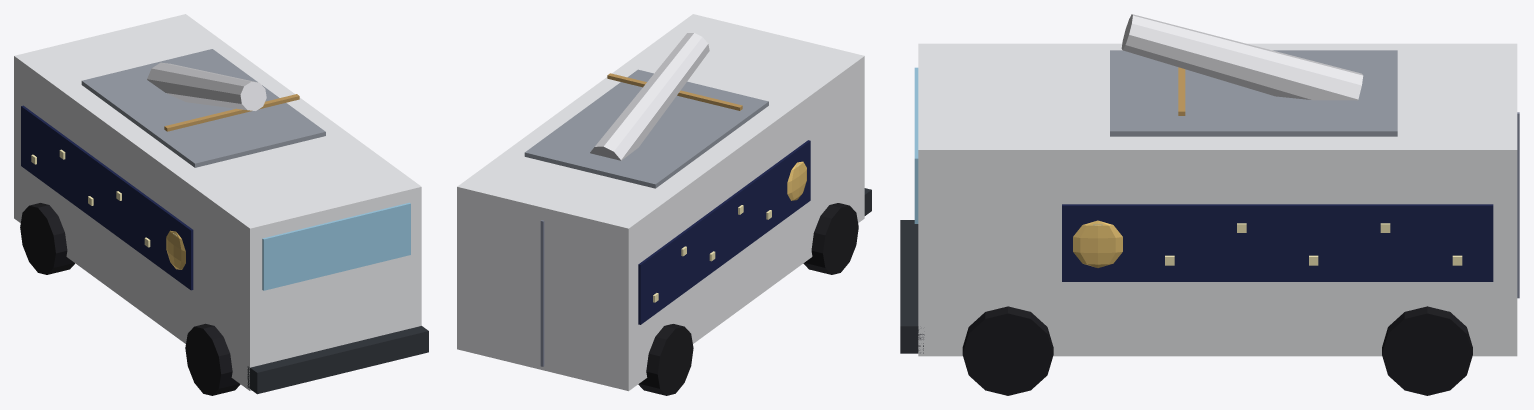
Rendered from planetarium_van.glb.
3 renders of one model, left to right at view 1: azimuth 30°, elevation 25°; view 2: azimuth 150°, elevation 25°; view 3: azimuth 270°, elevation 25°, orthographic. The views are drawn at different scales.
Parts seen in each view (by area): view 1: body_van_white, telescope_scope_metal, band_van_night, body_car_glass, wheels_tire (×2), body_bumper, telescope_scope_white, telescope_rope, band_saturn_paint; view 2: body_van_white, telescope_scope_metal, band_van_night, wheels_tire (×2), telescope_scope_white, doors_door_line, telescope_rope, band_saturn_paint; view 3: body_van_white, band_van_night, telescope_scope_metal, wheels_tire (×2), telescope_scope_white, body_bumper, band_saturn_paint, body_car_glass, band_van_star, doors_door_line.
Boxes of the visible parts, x1,y1,x2,y2 form: body_van_white: [14, 14, 421, 390]; telescope_scope_metal: [81, 49, 325, 167]; band_van_night: [21, 105, 193, 290]; body_car_glass: [262, 202, 410, 290]; wheels_tire (×2): [20, 203, 240, 395]; body_bumper: [247, 326, 428, 394]; telescope_scope_white: [147, 62, 266, 110]; telescope_rope: [164, 94, 299, 131]; band_saturn_paint: [166, 230, 185, 269]; body_van_white: [457, 14, 864, 391]; telescope_scope_metal: [524, 69, 768, 188]; band_van_night: [638, 140, 810, 324]; wheels_tire (×2): [638, 203, 858, 395]; telescope_scope_white: [590, 33, 709, 160]; doors_door_line: [540, 220, 544, 366]; telescope_rope: [607, 73, 742, 110]; band_saturn_paint: [787, 161, 806, 200]; body_van_white: [918, 43, 1517, 356]; band_van_night: [1062, 204, 1493, 281]; telescope_scope_metal: [1110, 50, 1397, 136]; wheels_tire (×2): [962, 306, 1472, 395]; telescope_scope_white: [1121, 14, 1363, 100]; body_bumper: [900, 220, 924, 353]; band_saturn_paint: [1073, 220, 1122, 267]; body_car_glass: [914, 67, 918, 223]; band_van_star: [1093, 223, 1462, 265]; doors_door_line: [1517, 112, 1519, 298].
Bounding box in the file's own units: 2.38 × 2.95 × 5.17.
